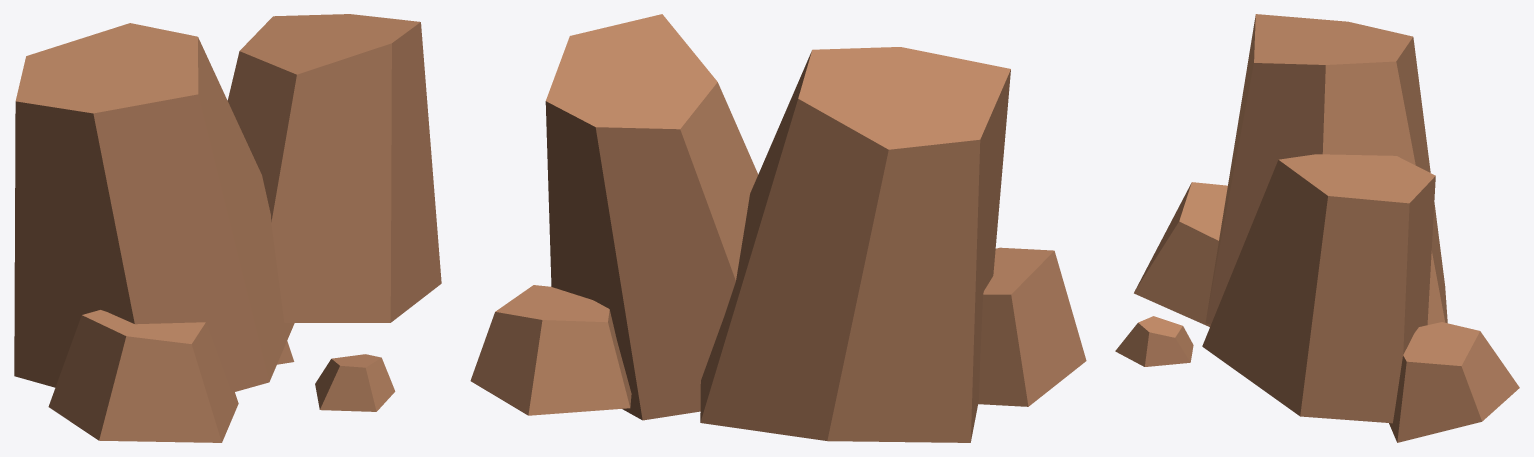
The model's file is rock_split.glb.
3 renders of one model, left to right at view 1: azimuth 30°, elevation 25°; view 2: azimuth 150°, elevation 25°; view 3: azimuth 270°, elevation 25°, orthographic. The views are drawn at different scales.
Parts seen in each view (by area): view 1: rock_split; view 2: rock_split; view 3: rock_split.
Part boxes in pixels (x1,y1,x2,y2): rock_split: (14, 14, 441, 442); rock_split: (470, 14, 1086, 442); rock_split: (1115, 14, 1519, 442).
Bounding box in the file's own units: 1.46 × 1.13 × 1.45.
